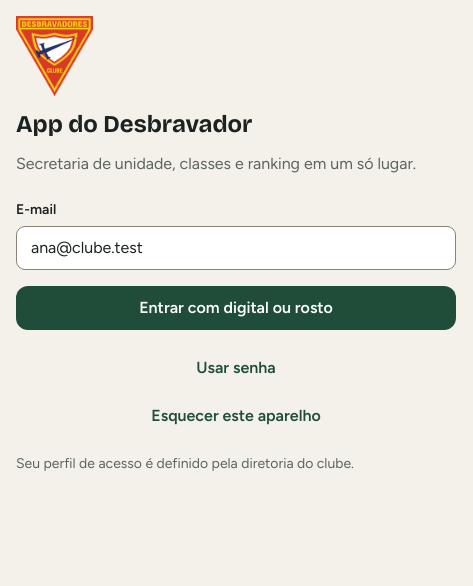
Test: login: aparelho com a marca › "Esquecer este aparelho" apaga a marca e o e-mail e devolve o formulário de sempre
Click the button "Esquecer este aparelho".
click(236, 416)  # box [16,394,456,438]
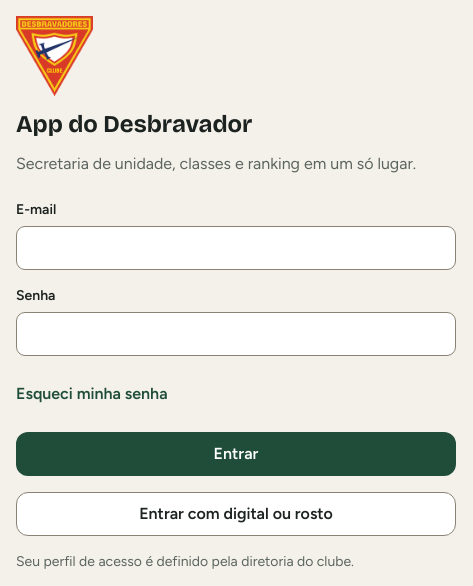
Expected: the button "Entrar com digital ou rosto" is shown, [16,492,456,536]
Result: the password field labelled "Senha" is shown at [16,312,456,356]
Result: the field labelled "E-mail" is empty at [16,226,456,270]
